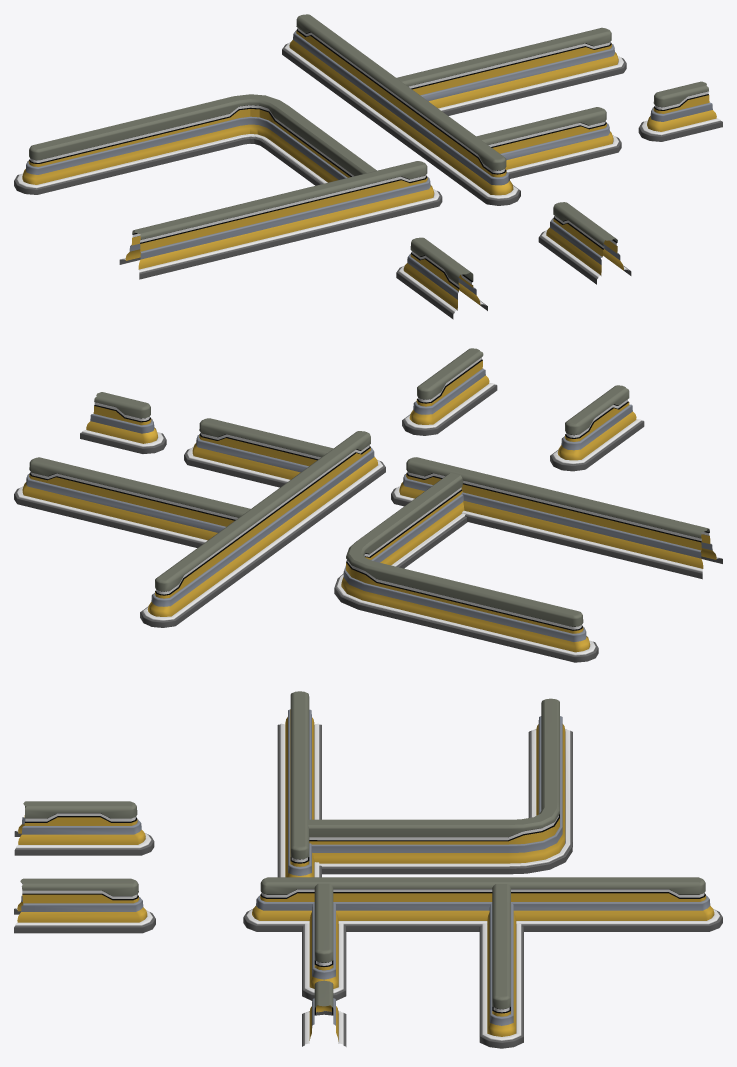
File: Level40_Small_walls.fbx
3 views of the same model, one above another, from view 1: azimuth 30°, elevation 25°; view 2: azimuth 150°, elevation 25°; view 3: azimuth 270°, elevation 25° (orthographic). The views are drawn at different scales.
Parts seen in each view (by area): view 1: Small_wall_L66, Small_wallv1_20, Small_wallv1_48, Small_wallv1_49, Small_wallv1_21, Small_wallv1_47, Small_wallv1_44, Small_wallv1_41; view 2: Small_wall_L66, Small_wallv1_20, Small_wallv1_48, Small_wallv1_49, Small_wallv1_21, Small_wallv1_47, Small_wallv1_44, Small_wallv1_41; view 3: Small_wallv1_48, Small_wall_L66, Small_wallv1_20, Small_wallv1_47, Small_wallv1_44, Small_wallv1_49, Small_wallv1_21, Small_wallv1_41.
Part boxes in pixels (x1=…): Small_wall_L66: x1=14, y1=94, x2=376, y2=194; Small_wallv1_20: x1=119, y1=161, x2=442, y2=279; Small_wallv1_48: x1=282, y1=14, x2=520, y2=205; Small_wallv1_49: x1=396, y1=27, x2=626, y2=115; Small_wallv1_21: x1=476, y1=107, x2=621, y2=178; Small_wallv1_47: x1=538, y1=202, x2=631, y2=284; Small_wallv1_44: x1=396, y1=237, x2=487, y2=319; Small_wallv1_41: x1=638, y1=81, x2=722, y2=141; Small_wall_L66: x1=334, y1=473, x2=598, y2=662; Small_wallv1_20: x1=391, y1=457, x2=722, y2=579; Small_wallv1_48: x1=140, y1=431, x2=385, y2=627; Small_wallv1_49: x1=14, y1=457, x2=250, y2=547; Small_wallv1_21: x1=184, y1=418, x2=333, y2=487; Small_wallv1_47: x1=402, y1=348, x2=497, y2=435; Small_wallv1_44: x1=550, y1=385, x2=644, y2=471; Small_wallv1_41: x1=80, y1=392, x2=166, y2=453; Small_wallv1_48: x1=243, y1=877, x2=722, y2=931; Small_wall_L66: x1=307, y1=698, x2=572, y2=874; Small_wallv1_20: x1=277, y1=691, x2=321, y2=877; Small_wallv1_47: x1=14, y1=878, x2=155, y2=933; Small_wallv1_44: x1=14, y1=801, x2=154, y2=855; Small_wallv1_49: x1=479, y1=884, x2=523, y2=1048; Small_wallv1_21: x1=302, y1=883, x2=346, y2=1000; Small_wallv1_41: x1=302, y1=980, x2=346, y2=1046.
Size of the model in its own units: 593 by 37.98 by 552.
